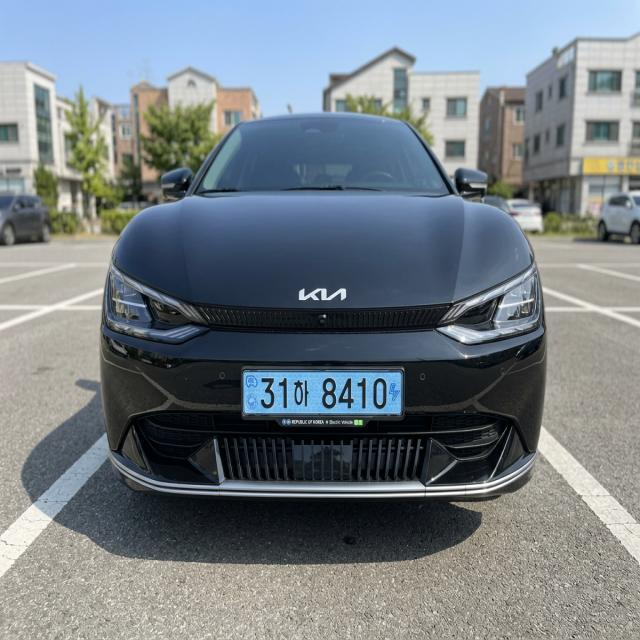car: (239, 349, 416, 441)
carev: (387, 376, 405, 421), (244, 371, 259, 419)
